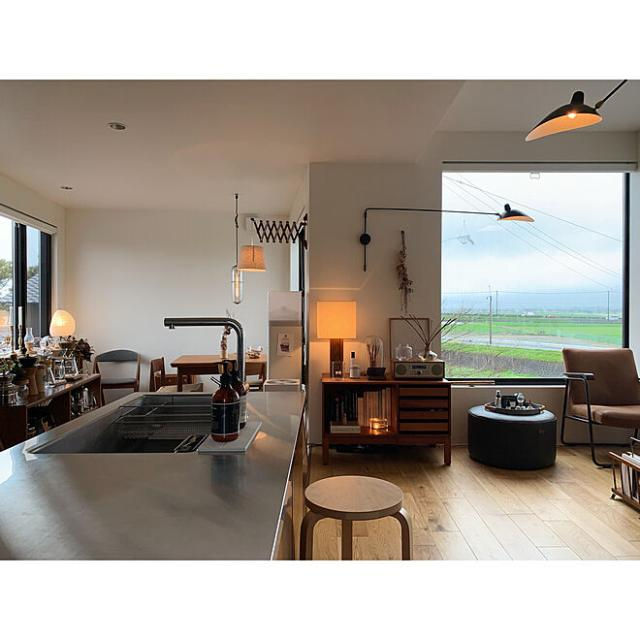vintage chair: (557, 344, 640, 469), (89, 340, 143, 391)
vintage desk: (175, 344, 267, 385)
vintage shelf: (316, 364, 454, 469)
